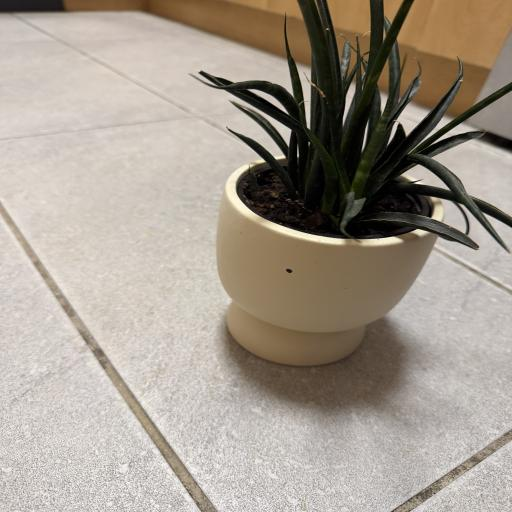Plant Pot: (210, 154, 446, 370)
